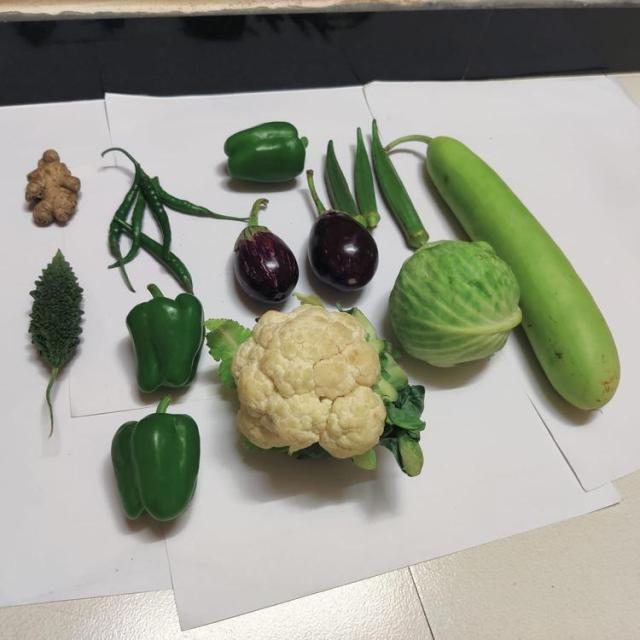Organik: (218, 300, 424, 483), (508, 128, 625, 406), (394, 240, 526, 368), (94, 143, 216, 279), (103, 390, 209, 530), (15, 242, 92, 404), (119, 279, 213, 391), (349, 114, 428, 244), (209, 118, 310, 196), (222, 199, 299, 300), (303, 198, 383, 294), (15, 146, 92, 228)
